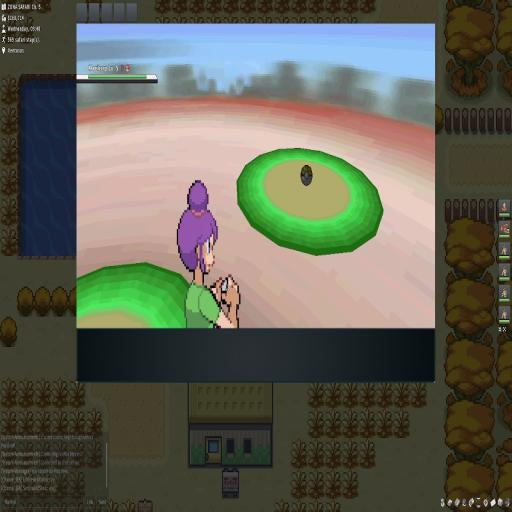SUCESSFULCAPTURE: (300, 164, 313, 186)
